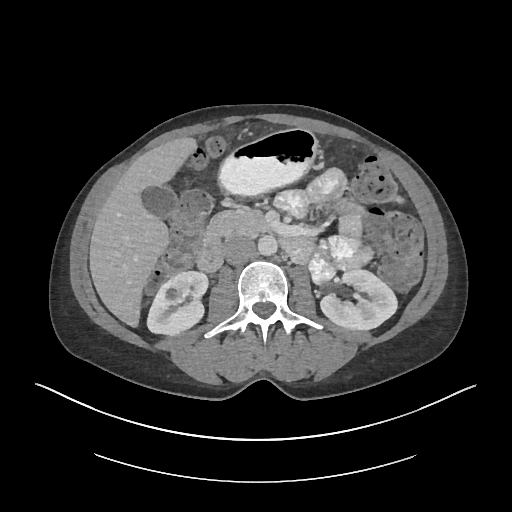Lesion: (163, 287, 182, 301)
